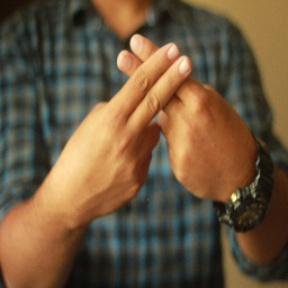F: (92, 24, 211, 151)
